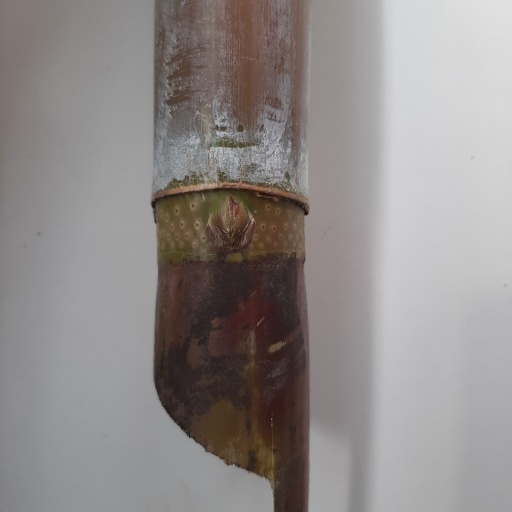Bud: (212, 192, 252, 250)
